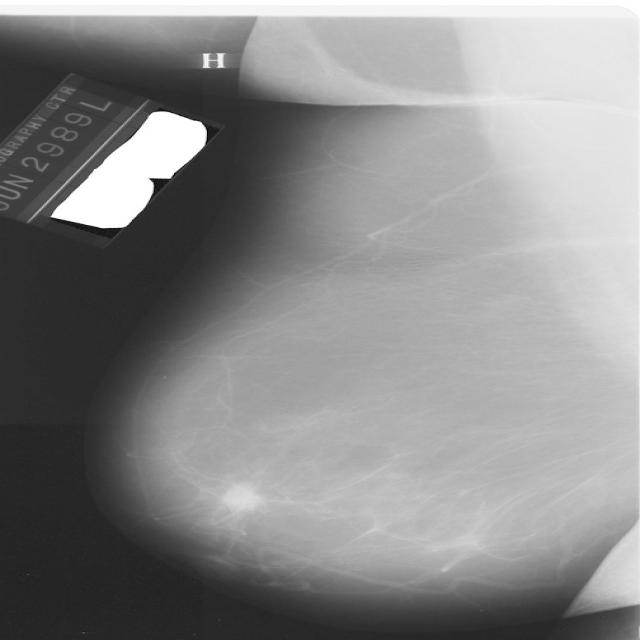tumour: (220, 482, 260, 512)
